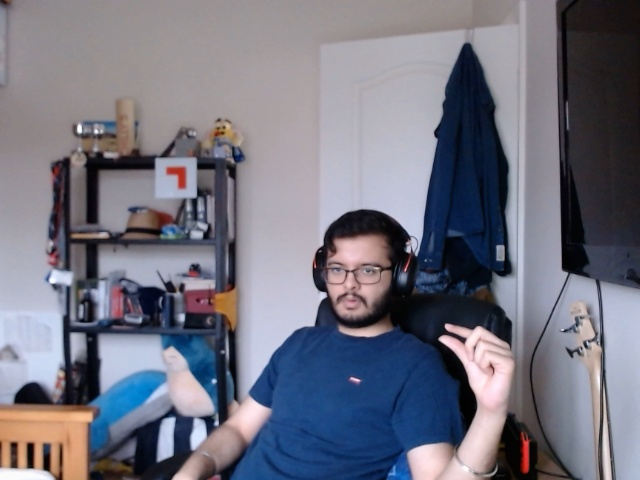Small: (434, 314, 520, 409)
